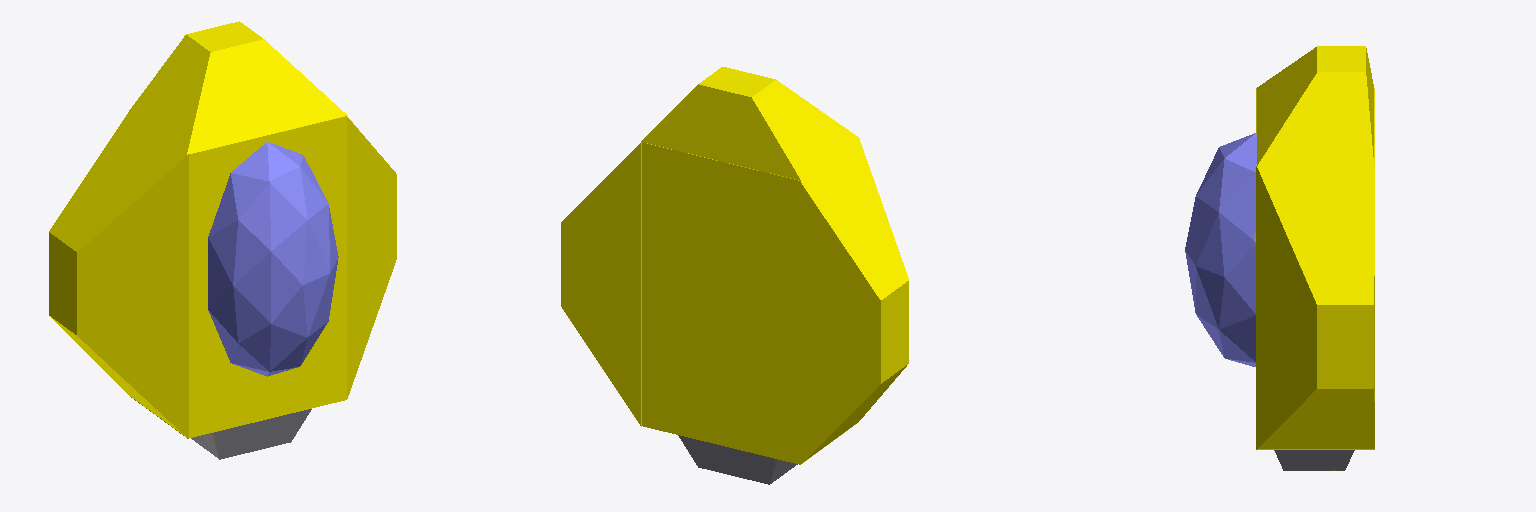
The picture shows the model from 3 angles: view 1: azimuth 30°, elevation 25°; view 2: azimuth 150°, elevation 25°; view 3: azimuth 270°, elevation 25°; orthographic projection.
Visible parts, largest first — view 1: minisub_hull; view 2: minisub_hull; view 3: minisub_hull.
Boxes of the visible parts, <box> form: minisub_hull: <box>49,21,396,459</box>; minisub_hull: <box>561,67,908,484</box>; minisub_hull: <box>1185,46,1374,470</box>.
Bounding box in the file's own units: 5.48 × 6.44 × 2.82.
Materials: 2 (1 with a texture image).